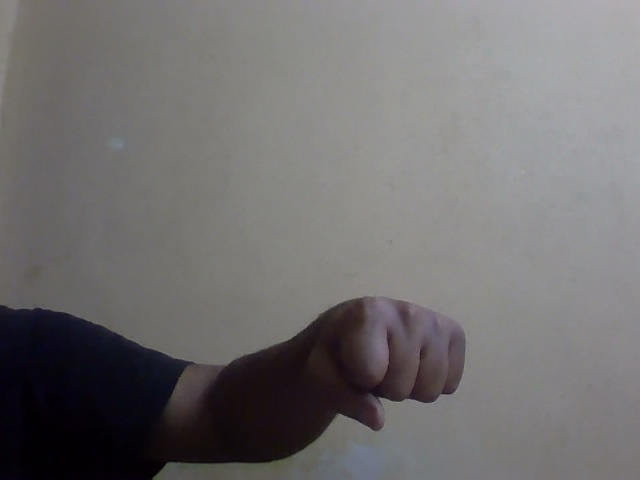Yes: (279, 275, 515, 451)
